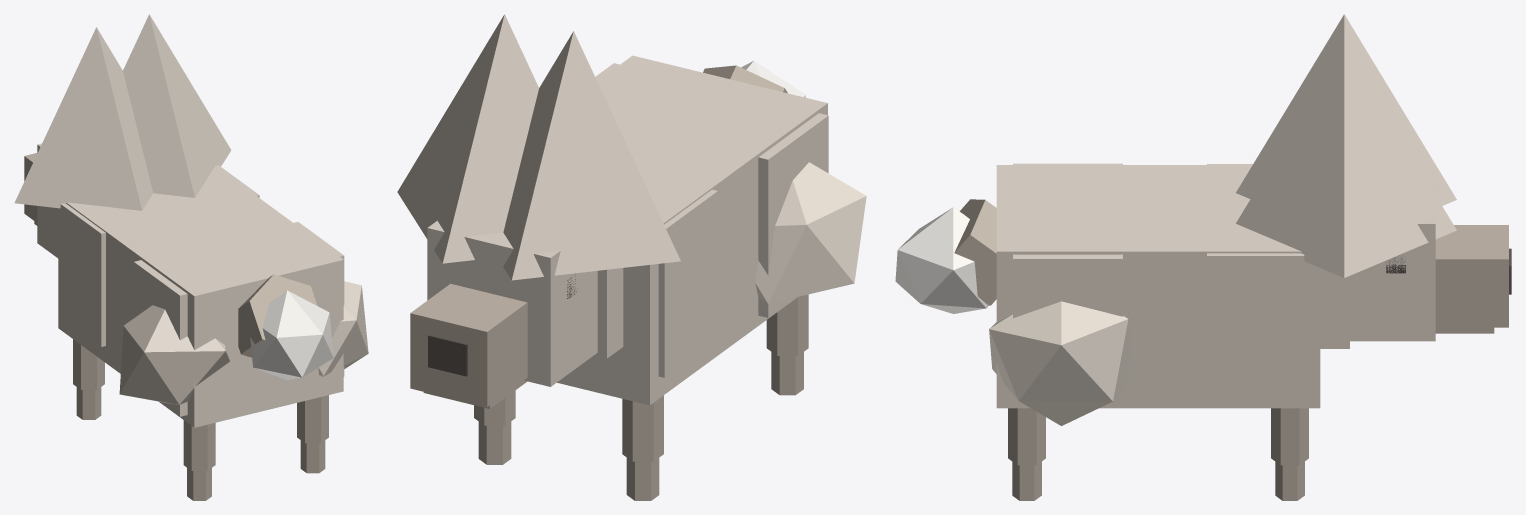
The model's file is rabbit.glb.
3 renders of one model, left to right at view 1: azimuth 30°, elevation 25°; view 2: azimuth 150°, elevation 25°; view 3: azimuth 270°, elevation 25°, orthographic. The views are drawn at different scales.
Visible parts, largest first — view 1: rabbit; view 2: rabbit; view 3: rabbit.
Part boxes in pixels (x1=…): rabbit: x1=14, y1=14, x2=368, y2=500; rabbit: x1=397, y1=14, x2=866, y2=500; rabbit: x1=895, y1=14, x2=1511, y2=500.
Bounding box in the file's own units: 0.3082 × 0.443 × 0.5707.
